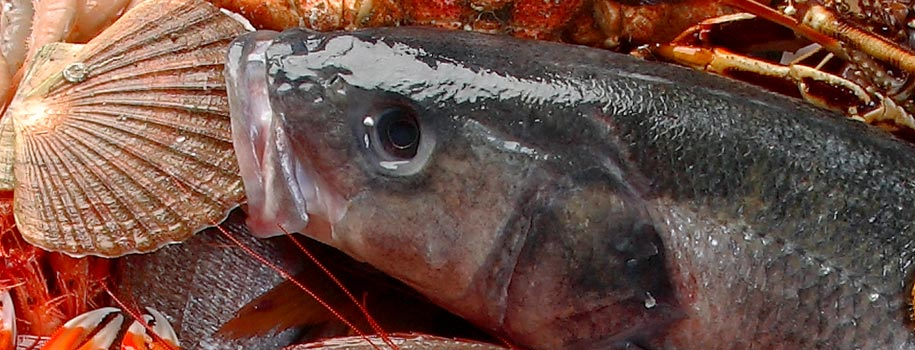fish: (222, 14, 913, 348)
